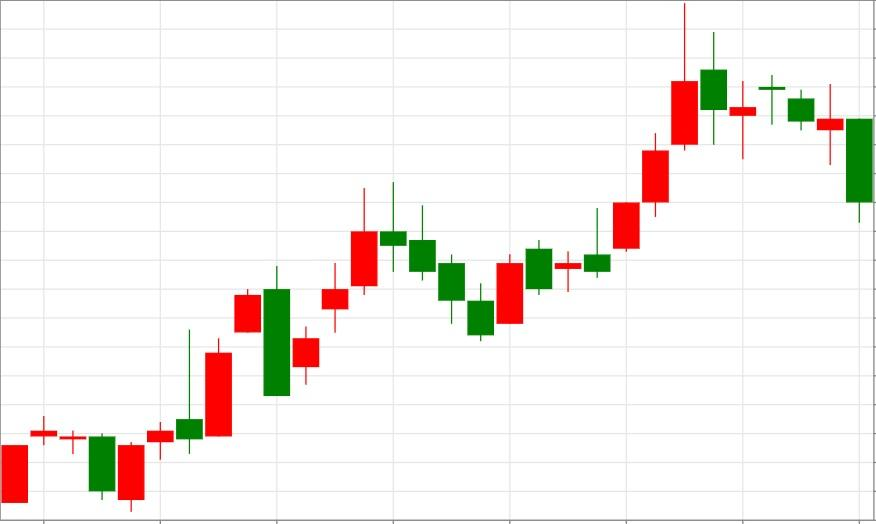bearish_engulfing_fall: (117, 265, 291, 512)
